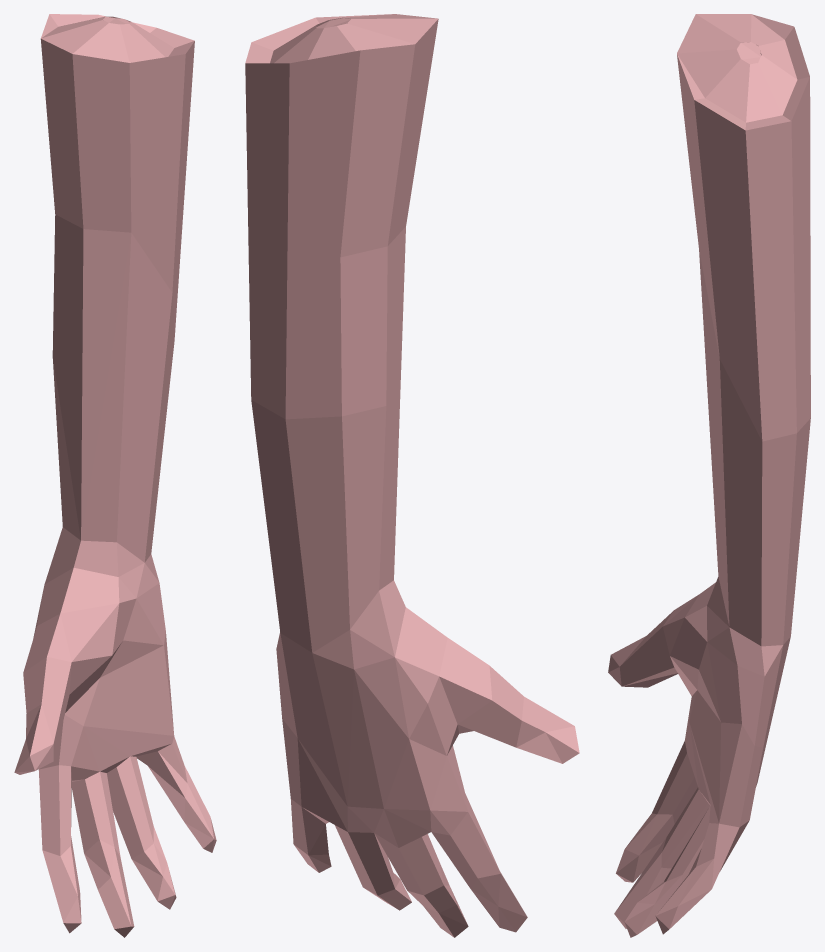
Rendered from arm 1.fbx.
3 views of the same model, side by side, from view 1: azimuth 30°, elevation 25°; view 2: azimuth 150°, elevation 25°; view 3: azimuth 270°, elevation 25° (orthographic). The views are drawn at different scales.
Visible parts, largest first — view 1: Arm; view 2: Arm; view 3: Arm.
Part boxes in pixels (x1,y1,x2,y2): Arm: (14,14,216,937); Arm: (245,14,579,937); Arm: (608,14,810,937).
Bounding box in the file's own units: 154 × 530 × 108.
